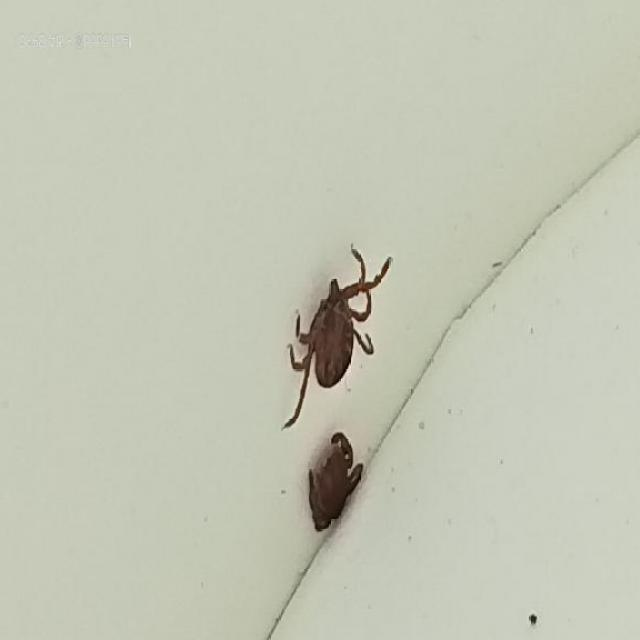Rhipicephalus Sanguineus-M: (284, 246, 393, 428), (305, 430, 365, 533)
